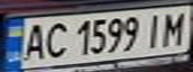1: (69, 17, 93, 56)
5: (90, 16, 109, 55)
9: (121, 12, 145, 52), (106, 15, 127, 54)
A: (18, 20, 51, 62)
C: (39, 19, 72, 60)
I: (142, 10, 166, 48)
M: (157, 8, 190, 47)
